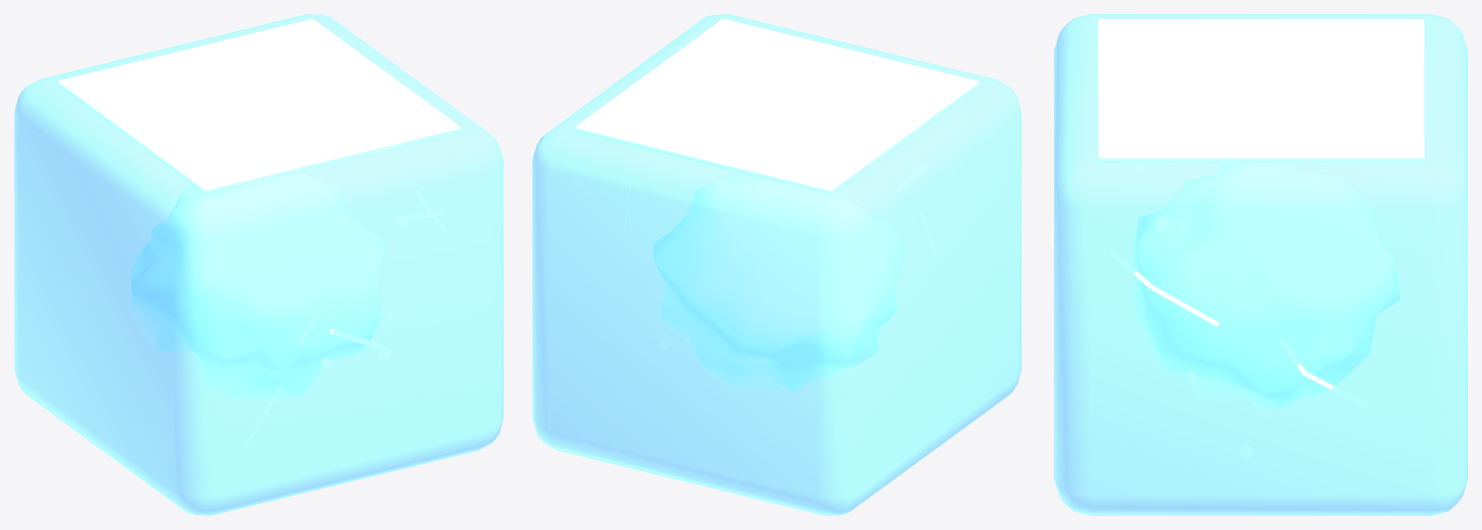
Rendered from ice_block.glb.
The picture shows the model from 3 angles, left to right: view 1: azimuth 30°, elevation 25°; view 2: azimuth 150°, elevation 25°; view 3: azimuth 270°, elevation 25°; orthographic projection. The views are drawn at different scales.
Visible parts, largest first — view 1: ice_block; view 2: ice_block; view 3: ice_block.
Boxes of the visible parts, <box> form: ice_block: <box>14,14,503,515</box>; ice_block: <box>532,14,1021,515</box>; ice_block: <box>1050,14,1467,515</box>.
Size of the model in its own units: 0.9777 by 0.911 by 0.9692.
